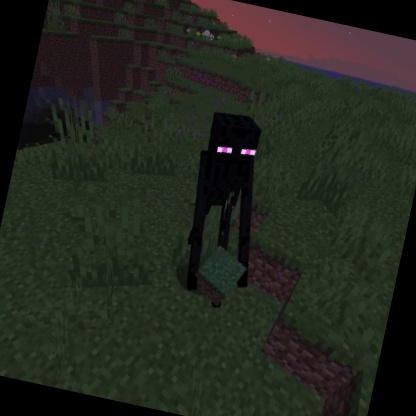enderman: (166, 105, 284, 317)
